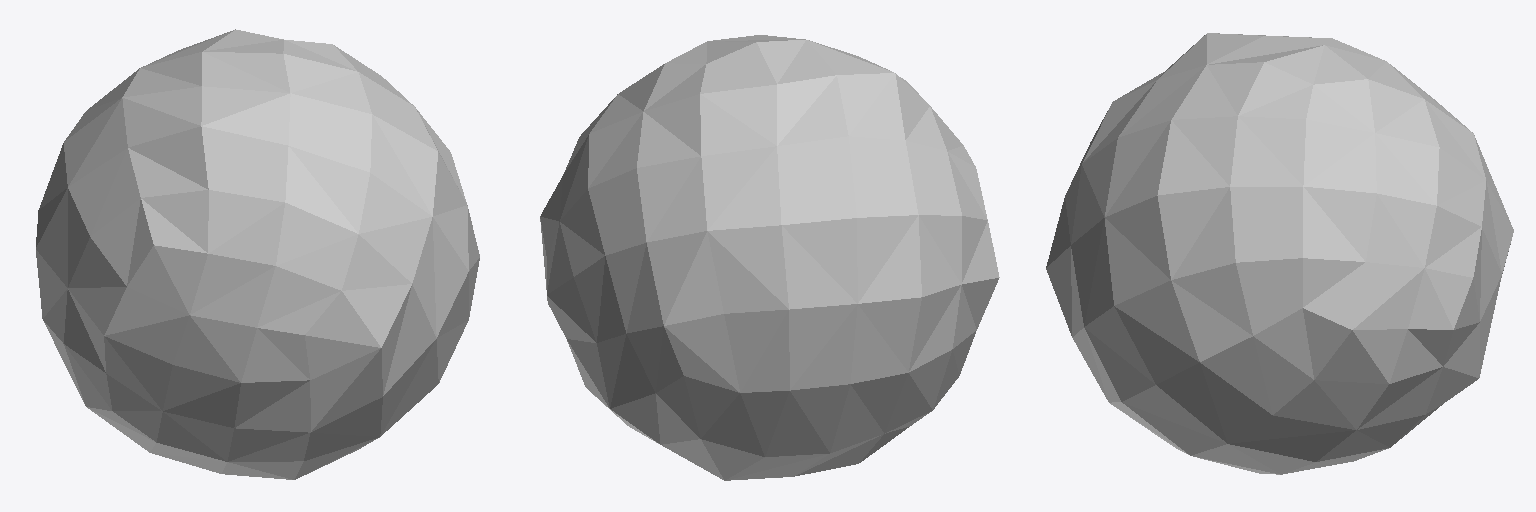
The model's file is icospehere.obj.
3 renders of one model, left to right at view 1: azimuth 30°, elevation 25°; view 2: azimuth 150°, elevation 25°; view 3: azimuth 270°, elevation 25°, orthographic.
Visible parts, largest first — view 1: Icosphere; view 2: Icosphere; view 3: Icosphere.
Boxes of the visible parts, box(x1,y1,x2,y2) form: Icosphere: box(36, 29, 479, 479); Icosphere: box(540, 35, 999, 480); Icosphere: box(1046, 33, 1513, 474).
Size of the model in its own units: 1.89 by 1.92 by 2.